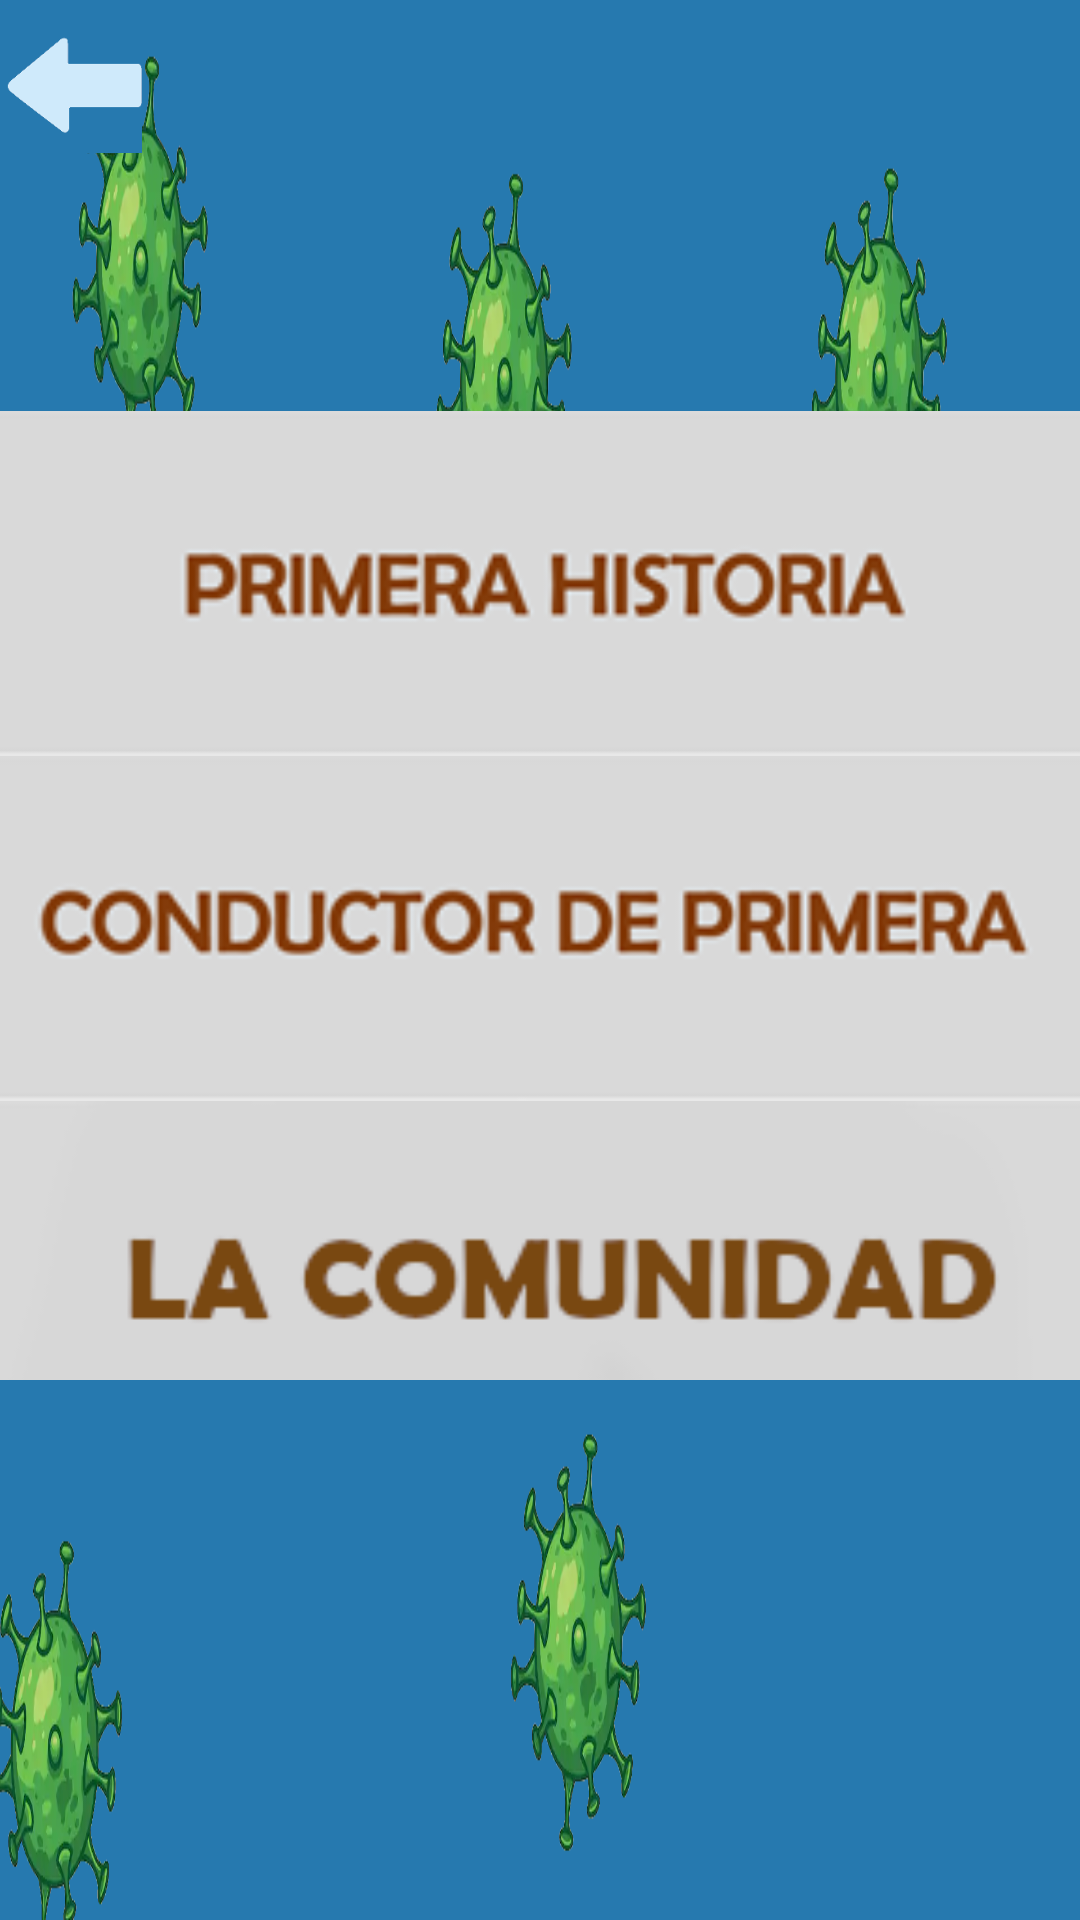

Screen size 1080px×1920px. Icon name, then its center in pixels as point (x, y):
flecha volver atras: point (75, 85)
